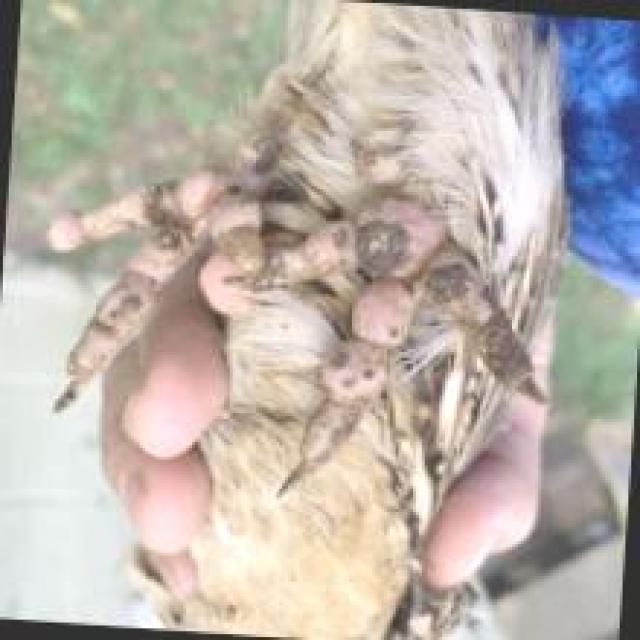Bumble foot: (141, 133, 528, 420)
